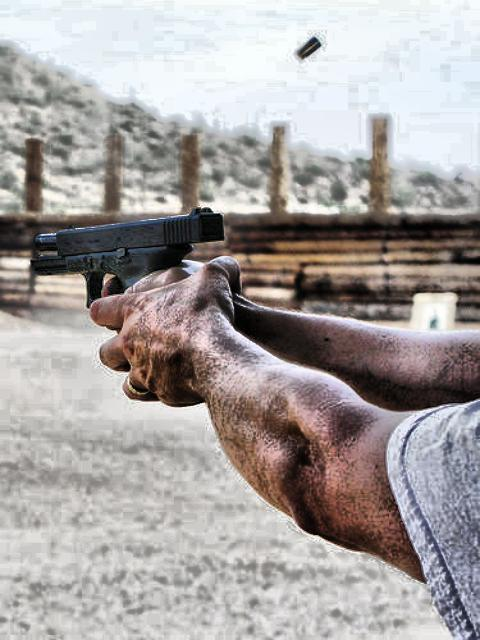pistol: (29, 202, 222, 308)
